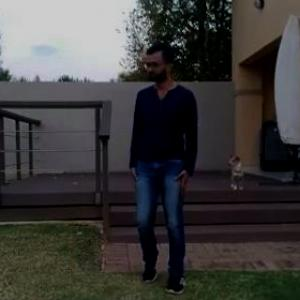follow: (105, 24, 200, 264)
